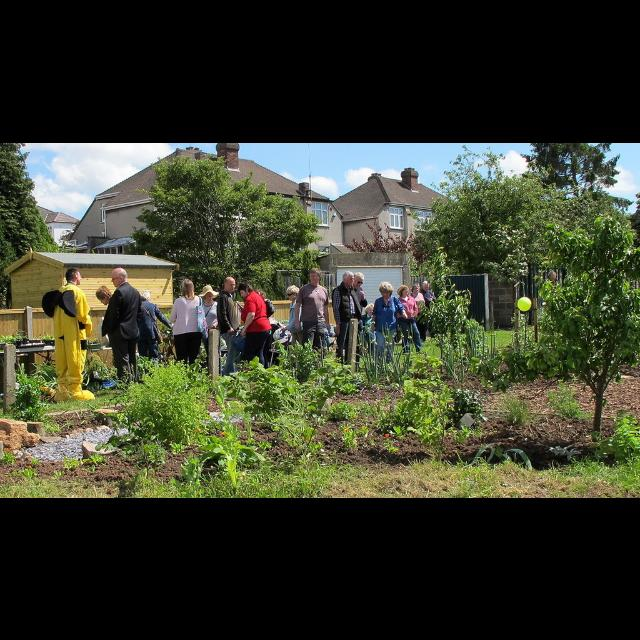Flower: (40, 383, 56, 393), (221, 431, 227, 437), (343, 424, 349, 430), (5, 444, 9, 452), (24, 464, 32, 468), (169, 439, 175, 443), (196, 426, 200, 432), (306, 437, 312, 441), (386, 433, 390, 437)
